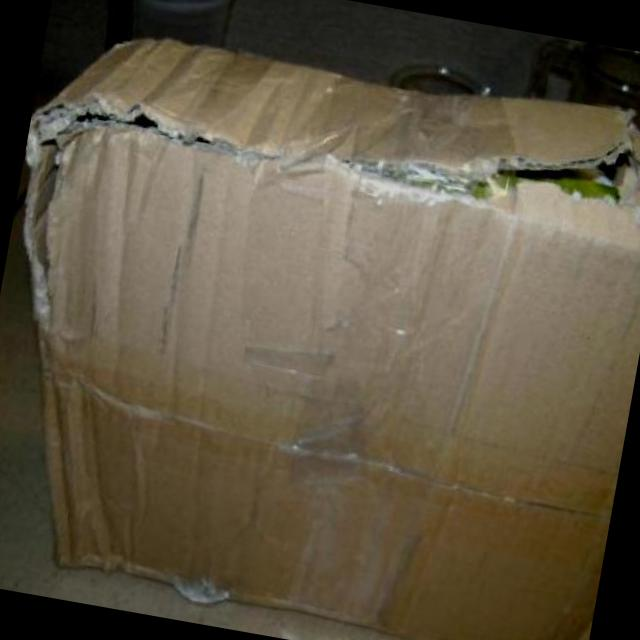box: (29, 42, 640, 640)
crushed: (34, 331, 159, 567), (79, 45, 299, 98)
opened: (29, 81, 221, 332), (354, 125, 640, 215)
